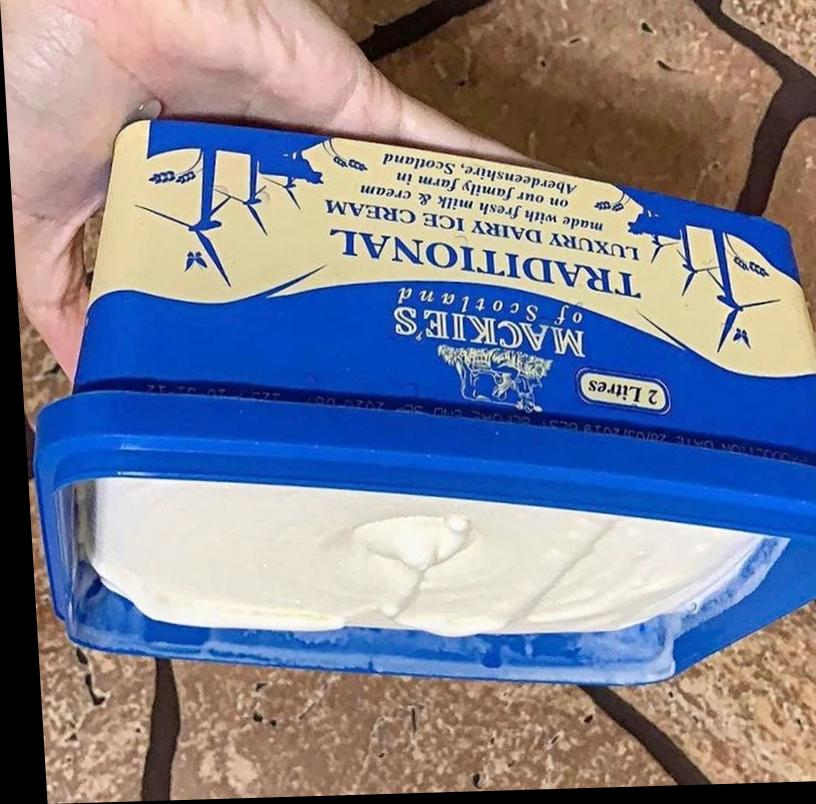plastic: (12, 89, 816, 712)
